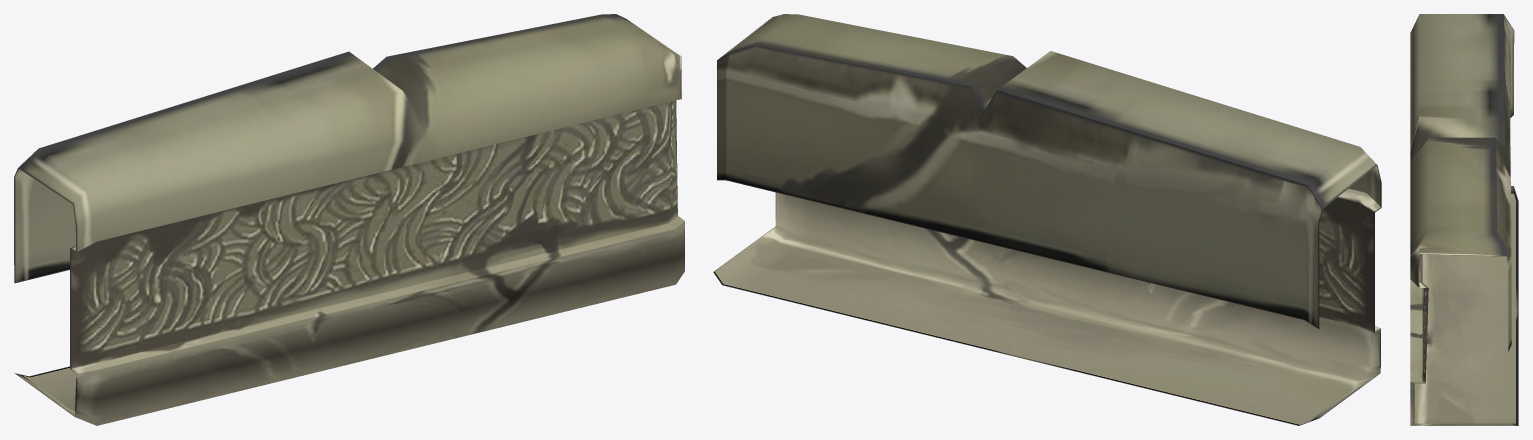
File: walltop_1.fbx
3 renders of one model, left to right at view 1: azimuth 30°, elevation 25°; view 2: azimuth 150°, elevation 25°; view 3: azimuth 270°, elevation 25°, orthographic. The views are drawn at different scales.
Visible parts, largest first — view 1: polySurface106; view 2: polySurface106; view 3: polySurface106.
Boxes of the visible parts, box(x1,y1,x2,y2) form: polySurface106: box(14, 14, 684, 425); polySurface106: box(713, 14, 1381, 425); polySurface106: box(1410, 14, 1518, 425).
Bounding box in the file's own units: 2.01 × 0.8036 × 0.3872.
